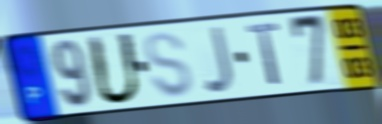7: (286, 13, 329, 91)
9: (52, 37, 96, 111)
J: (201, 24, 236, 96)
S: (143, 29, 195, 100)
T: (244, 20, 284, 88)
U: (84, 31, 144, 107)
